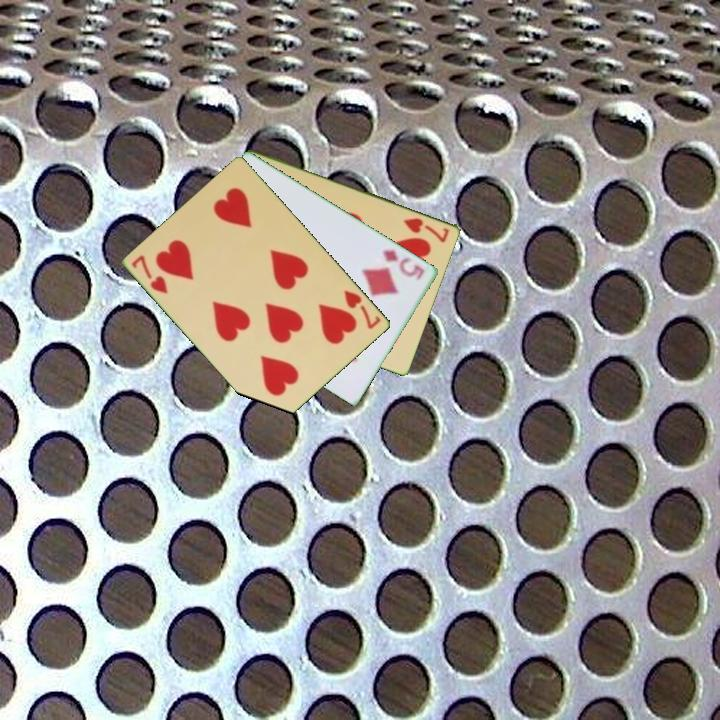5d: (379, 246, 428, 284)
7h: (341, 286, 384, 332), (128, 251, 171, 297), (400, 214, 452, 245)
